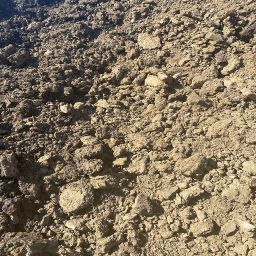dirt: (2, 0, 252, 253)
